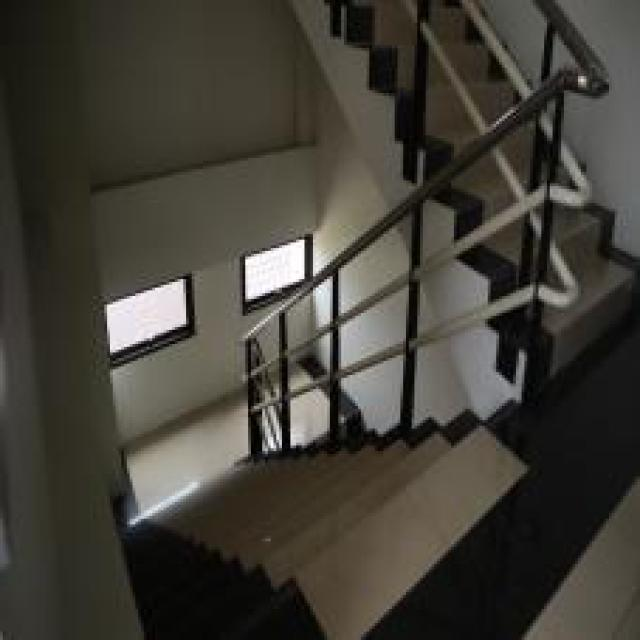downstair: (111, 421, 565, 638)
